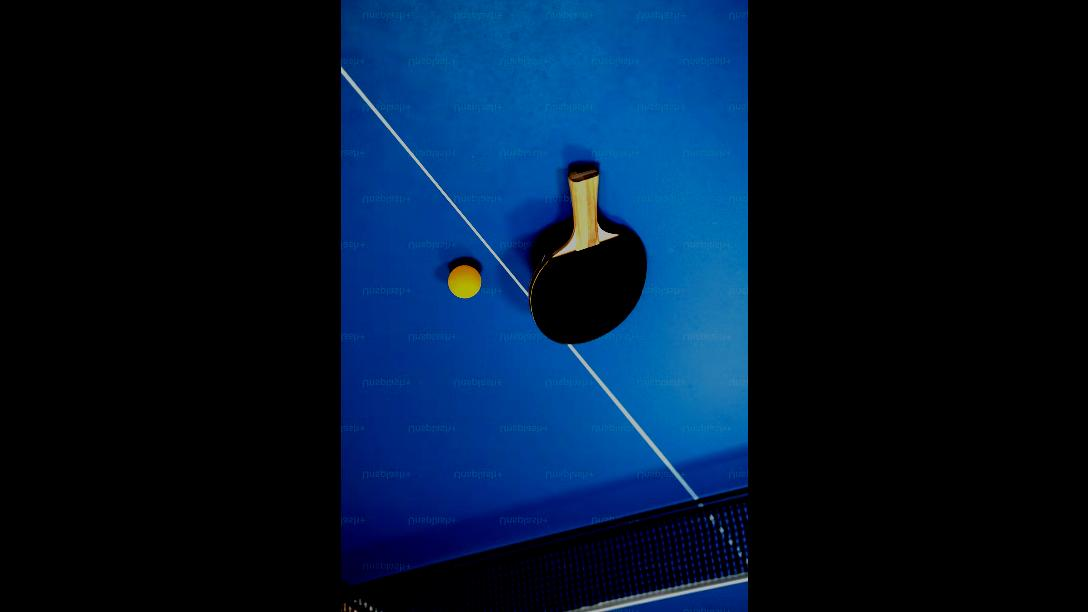Table-Tennis-Ball: (447, 266, 481, 298)
